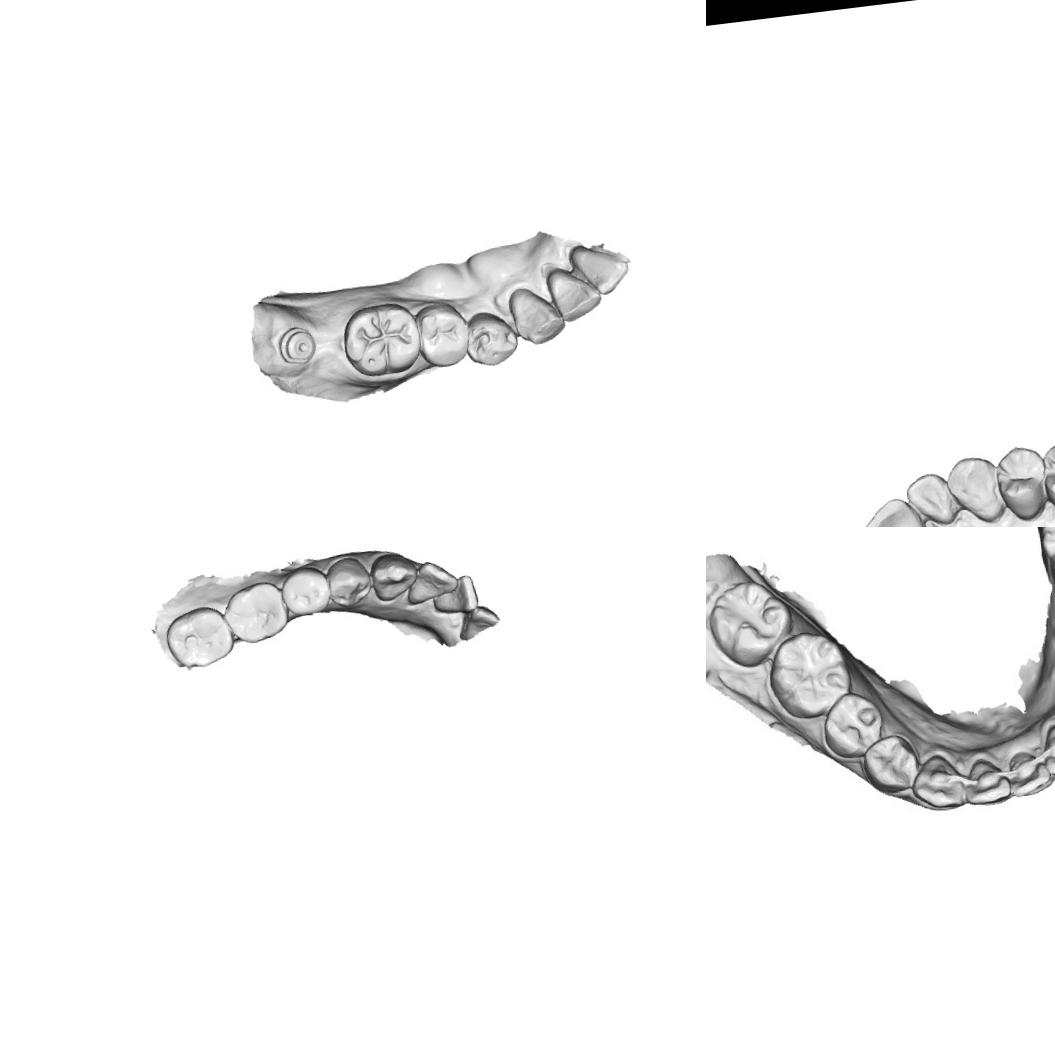canine: (942, 452, 1013, 527), (506, 280, 569, 348), (909, 752, 968, 814), (368, 550, 421, 604)
implant: (273, 322, 320, 369)
incisor: (566, 237, 634, 300), (544, 260, 605, 325), (400, 556, 462, 608), (902, 468, 954, 527), (958, 752, 1013, 806), (854, 492, 933, 527), (1006, 744, 1055, 800), (429, 571, 484, 618), (1043, 719, 1055, 775)
molar: (706, 574, 796, 671), (766, 627, 854, 720), (337, 296, 426, 382), (162, 601, 236, 672), (219, 579, 291, 647)
premolar: (992, 439, 1050, 524), (412, 298, 476, 371), (461, 306, 522, 370), (824, 693, 884, 756), (275, 562, 335, 620), (862, 736, 920, 794), (322, 554, 376, 610), (1036, 437, 1055, 521)
